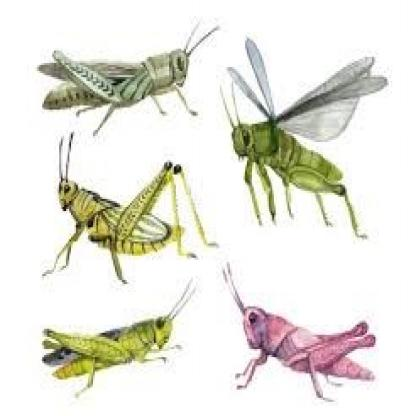grasshopper: (221, 42, 390, 247), (44, 136, 225, 280), (36, 15, 218, 130)
